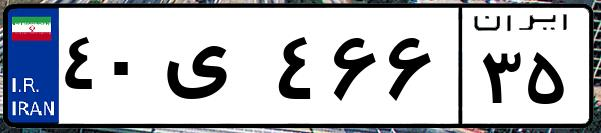0: (110, 28, 158, 98)
3: (475, 38, 525, 113)
4: (270, 28, 330, 110), (57, 26, 110, 100)
5: (525, 38, 570, 115)
6: (385, 28, 445, 110), (330, 28, 385, 110)
ی: (158, 20, 270, 120)
